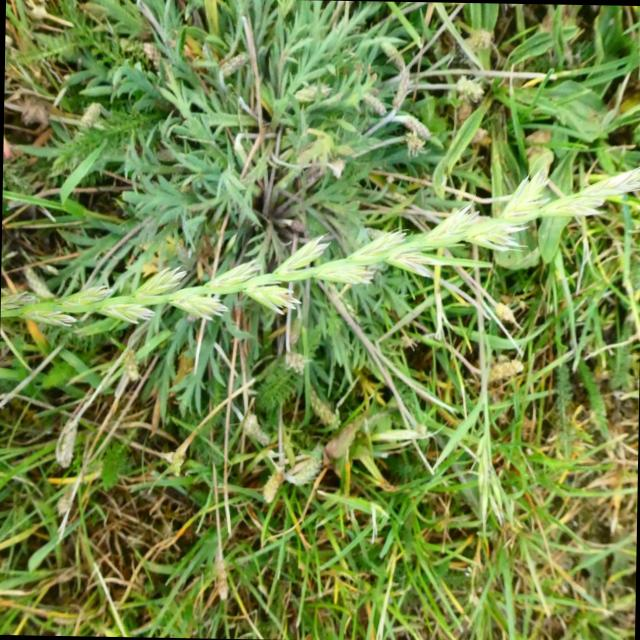Lolium: (3, 153, 640, 338)
